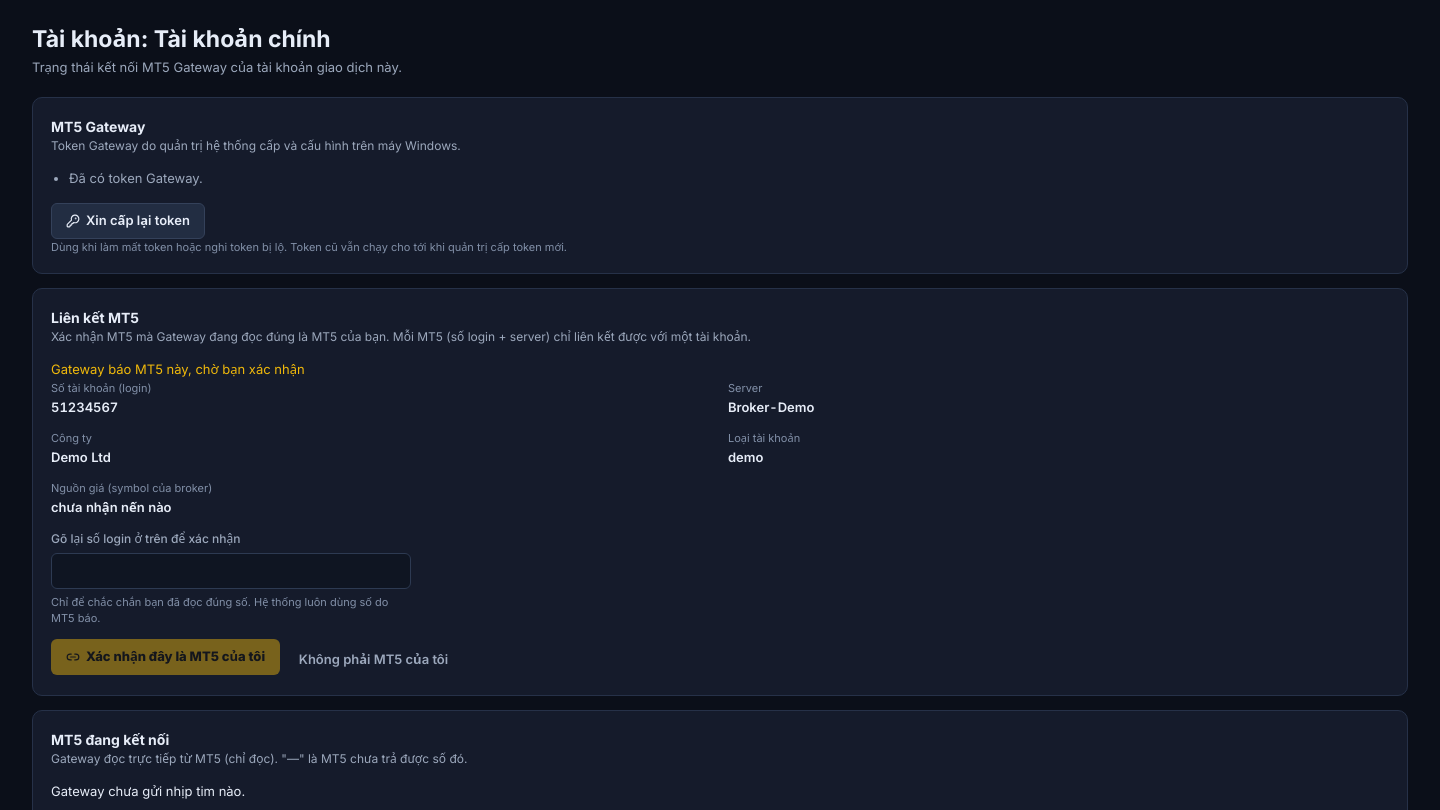
Scenario: Liên kết MT5 (MT-13) › chờ xác nhận: phải gõ đúng login mới bấm được; gửi đúng link_id/login/server
Expected: the button "Xác nhận đây là MT5 của tôi" is disabled, [51, 639, 280, 675]
Type "51234568" into the field labelled "Gõ lại số login ở trên để xác nhận".
click(231, 571); type("51234568")  # box [51, 553, 411, 589]
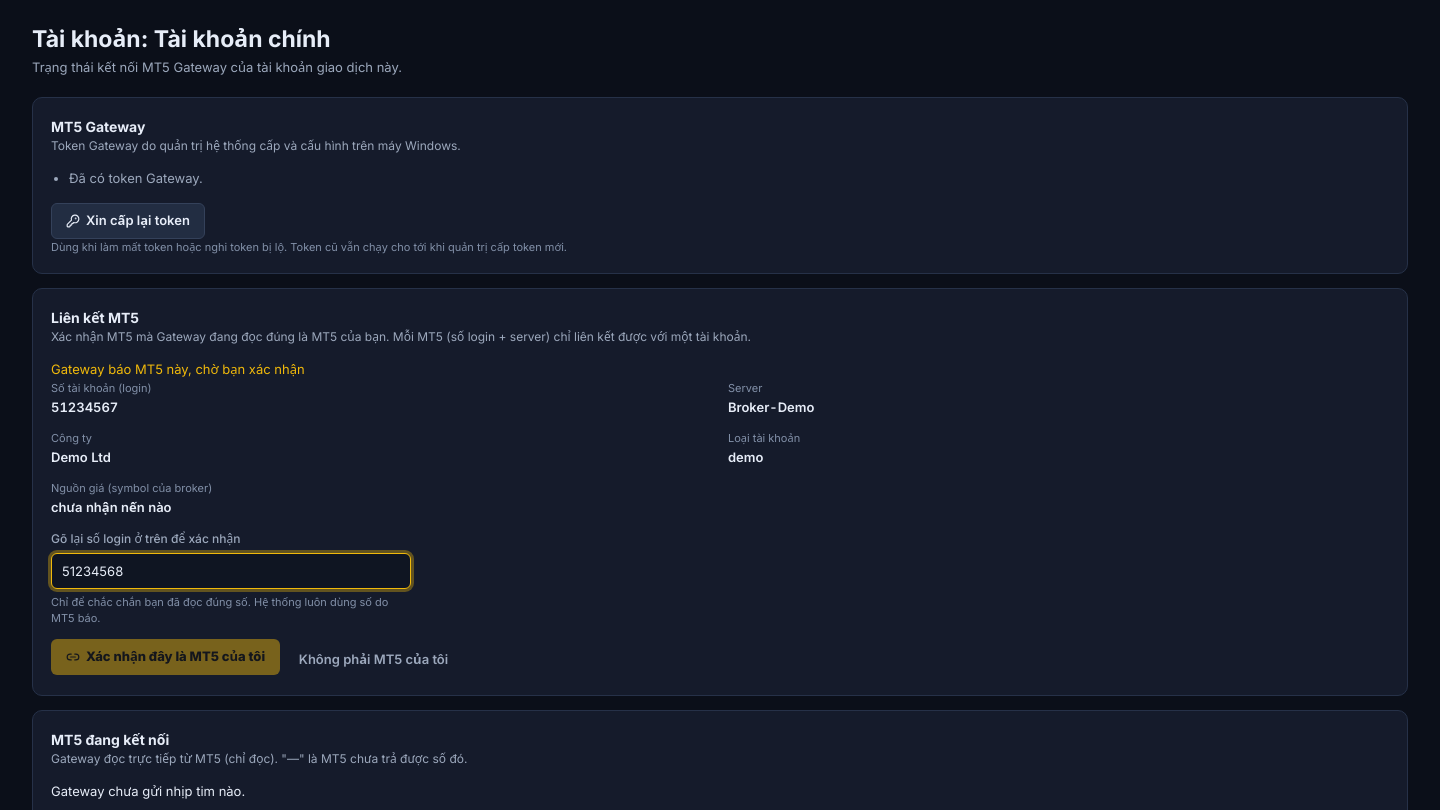
Expected: the button "Xác nhận đây là MT5 của tôi" is disabled, [51, 639, 280, 675]
Replace the text in the field labelled "Gõ lại số login ở trên để xác nhận" with "51234567" at {"x": 231, "y": 571}, box [51, 553, 411, 589]
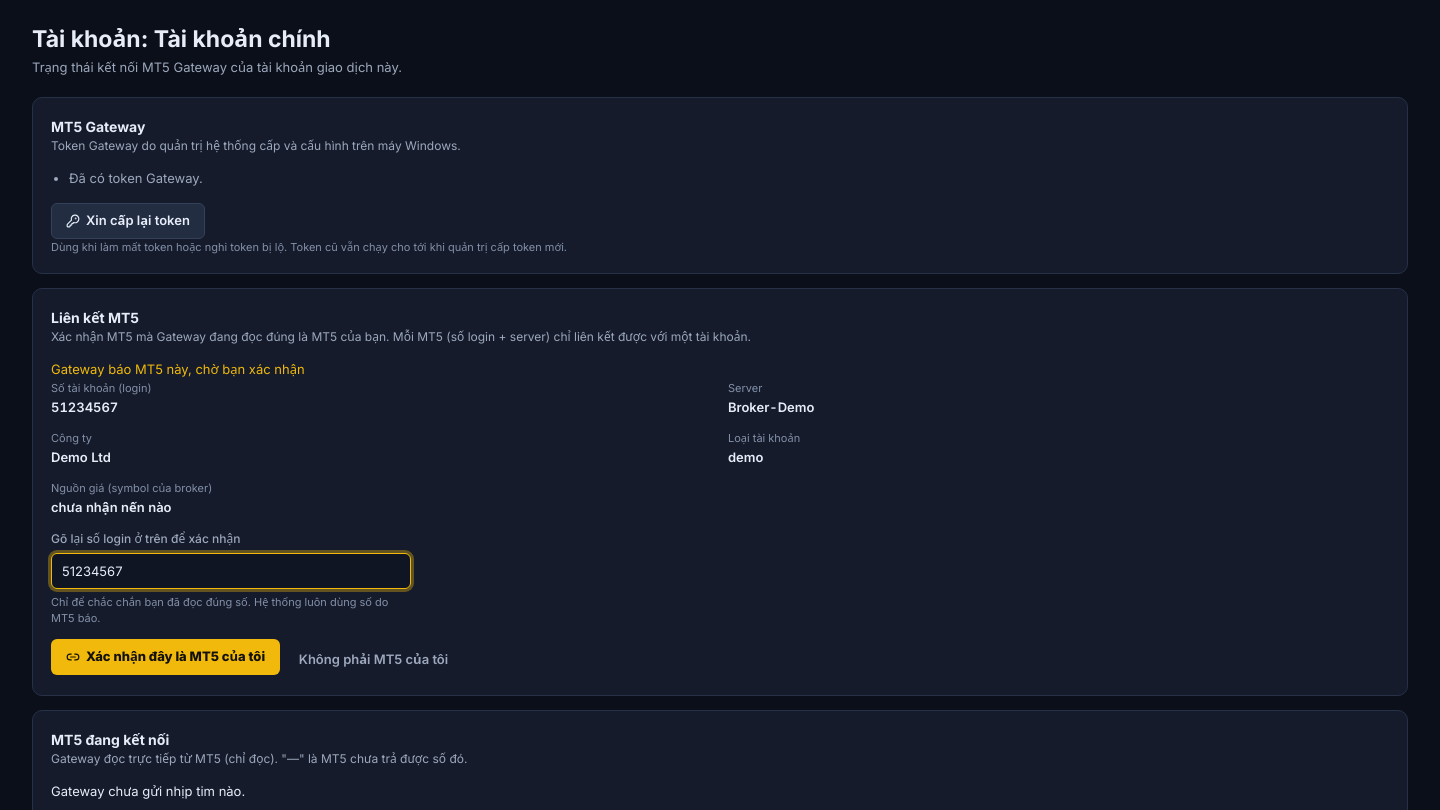
Now the button "Xác nhận đây là MT5 của tôi" is enabled
Click the button "Xác nhận đây là MT5 của tôi".
click(166, 657)  # box [51, 639, 280, 675]
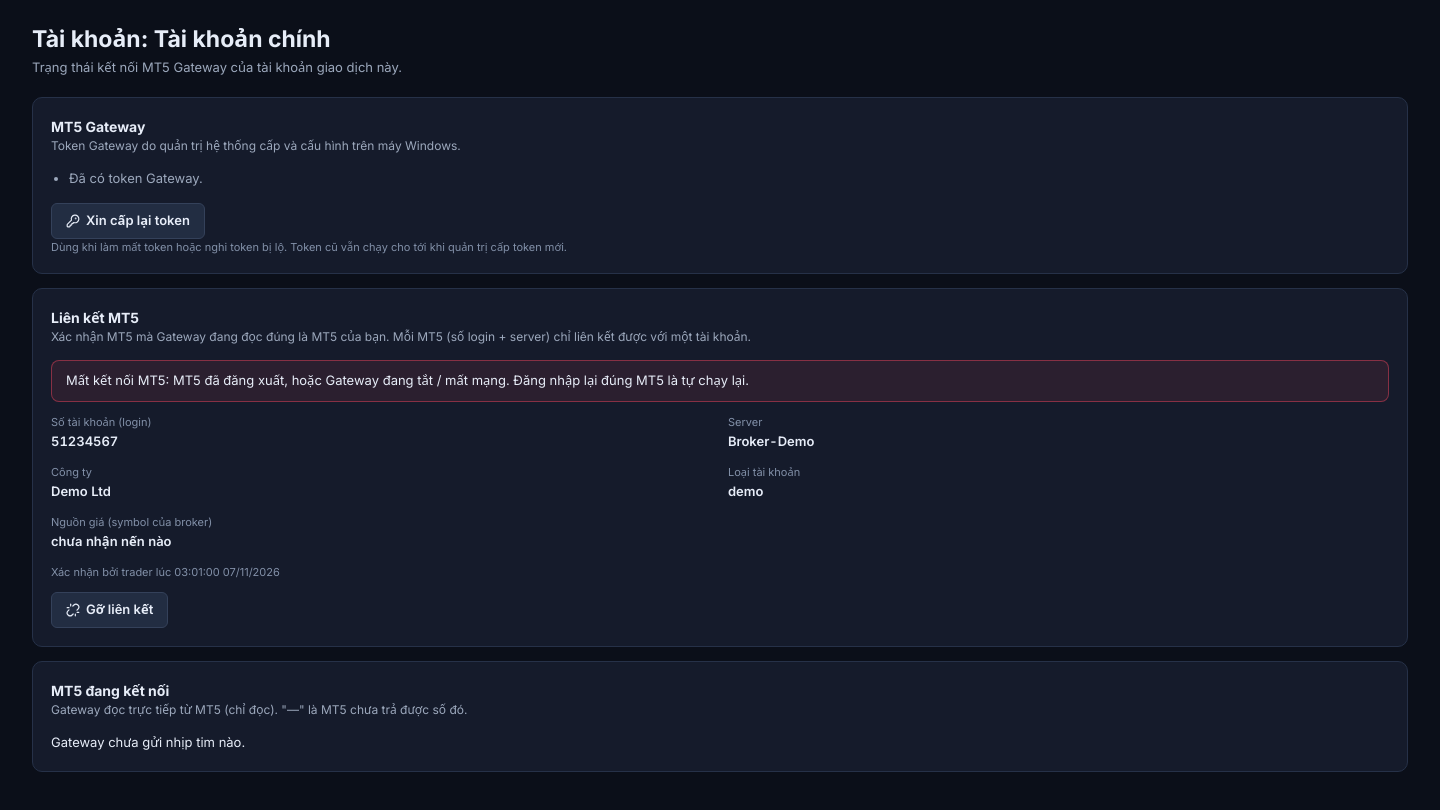
Now the text "Xác nhận bởi trader lúc 03:01:00 07/11/2026" is shown, box [51, 565, 280, 579]
